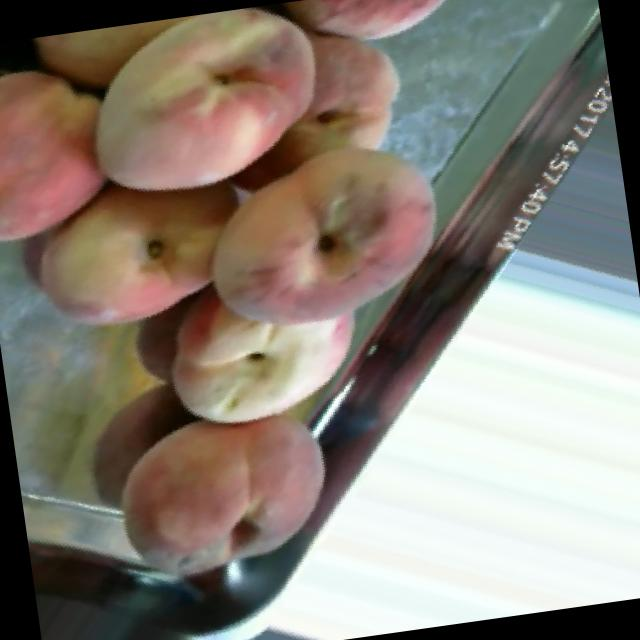Fruit: (167, 105, 476, 372), (56, 0, 357, 234), (76, 368, 364, 600), (0, 141, 280, 372), (0, 42, 134, 274), (252, 0, 490, 62)
